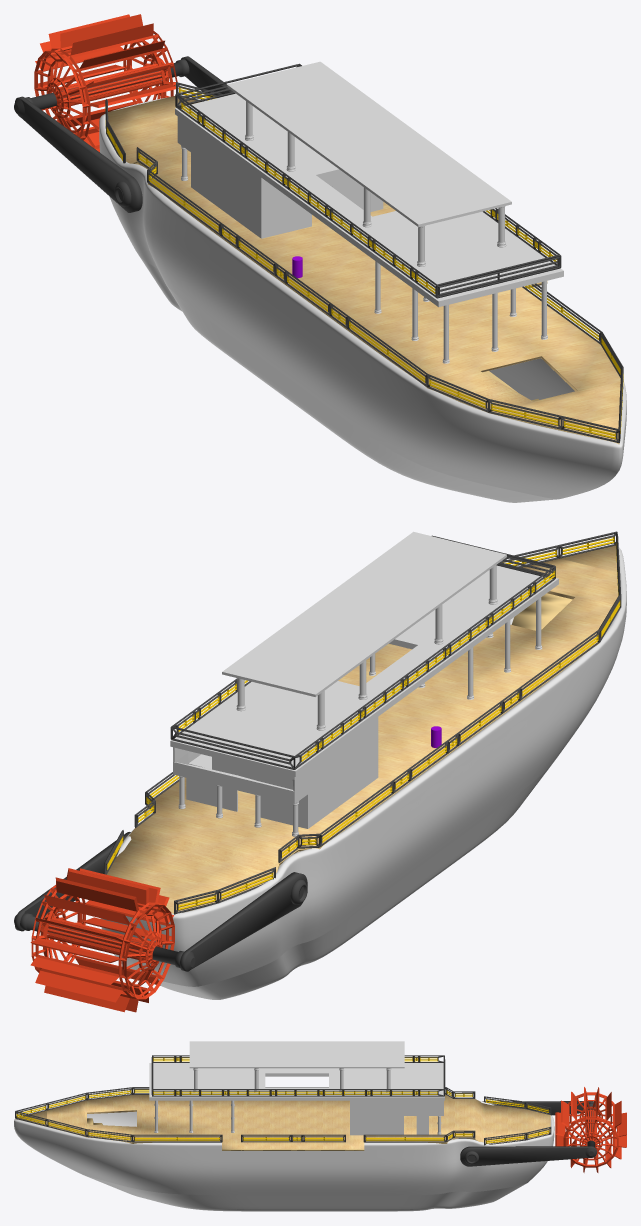
Rendered from yacht map.fbx.
The picture shows the model from 3 angles, top to bottom: view 1: azimuth 30°, elevation 25°; view 2: azimuth 150°, elevation 25°; view 3: azimuth 270°, elevation 25°; orthographic projection. The views are drawn at different scales.
Parts seen in each view (by area): view 1: hull, Plane, upper deck roof, upper deck, water wheel, lower rails, back building, upper rails, fin wheel axle, lower pillars, second floor pillars; view 2: hull, Plane, upper deck roof, upper deck, water wheel, back building, lower rails, upper rails, fin wheel axle, second floor pillars, lower pillars, rear pillars; view 3: hull, Plane, upper deck, lower rails, upper deck roof, water wheel, upper rails, fin wheel axle, back building, second floor pillars, lower pillars.
Part boxes in pixels (x1=…): hull: x1=99, y1=97, x2=626, y2=502; Plane: x1=108, y1=96, x2=620, y2=444; upper deck roof: x1=227, y1=61, x2=511, y2=227; upper deck: x1=175, y1=93, x2=563, y2=307; water wheel: x1=34, y1=14, x2=178, y2=152; lower rails: x1=105, y1=82, x2=623, y2=443; back building: x1=177, y1=116, x2=383, y2=238; upper rails: x1=175, y1=63, x2=561, y2=298; fin wheel axle: x1=14, y1=56, x2=234, y2=212; lower pillars: x1=374, y1=261, x2=547, y2=363; second floor pillars: x1=245, y1=101, x2=506, y2=266; hull: x1=100, y1=547, x2=626, y2=999; Plane: x1=107, y1=545, x2=618, y2=913; upper deck roof: x1=222, y1=531, x2=506, y2=696; upper deck: x1=170, y1=565, x2=558, y2=776; water wheel: x1=30, y1=868, x2=174, y2=1012; back building: x1=173, y1=717, x2=378, y2=828; lower rails: x1=104, y1=531, x2=621, y2=914; upper rails: x1=170, y1=535, x2=555, y2=769; fin wheel axle: x1=14, y1=832, x2=307, y2=971; second floor pillars: x1=236, y1=565, x2=497, y2=730; lower pillars: x1=369, y1=597, x2=542, y2=699; rear pillars: x1=178, y1=776, x2=298, y2=836; hull: x1=14, y1=1097, x2=554, y2=1211; Plane: x1=15, y1=1094, x2=550, y2=1150; upper deck: x1=149, y1=1063, x2=444, y2=1100; lower rails: x1=15, y1=1087, x2=551, y2=1145; upper deck roof: x1=189, y1=1041, x2=404, y2=1068; water wheel: x1=555, y1=1087, x2=626, y2=1172; upper rails: x1=151, y1=1055, x2=445, y2=1096; fin wheel axle: x1=460, y1=1101, x2=596, y2=1166; back building: x1=350, y1=1100, x2=443, y2=1135; second floor pillars: x1=193, y1=1068, x2=391, y2=1092; lower pillars: x1=154, y1=1100, x2=234, y2=1133.
Size of the model in its own units: 2271 by 2681 by 10439.
